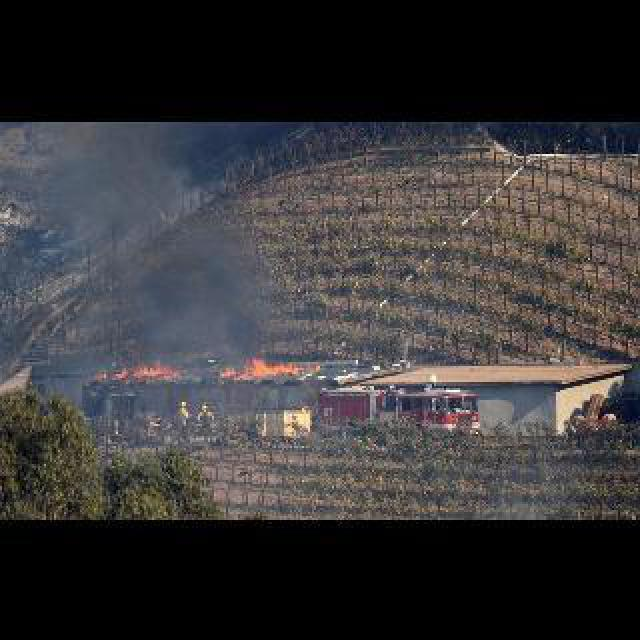Fire: (102, 344, 186, 384), (218, 354, 304, 384)
Smoke: (39, 133, 278, 359)
